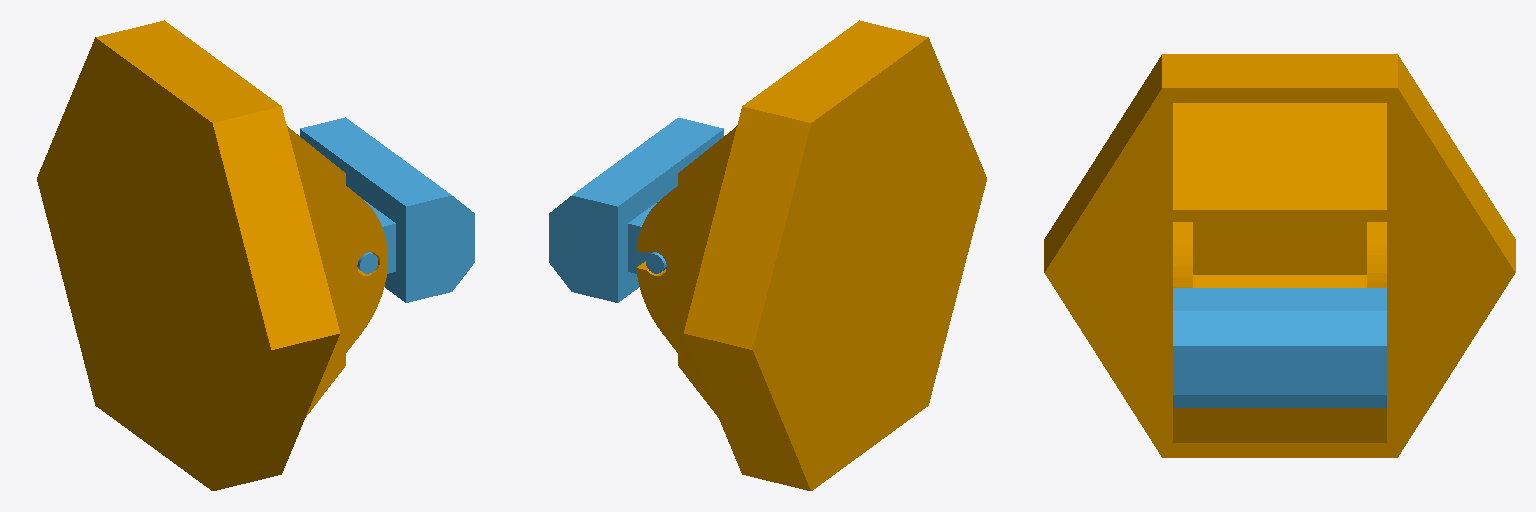
The robot description file, URDF, robot "Circuit_Breaker_Assembly":
<?xml version='1.0' encoding='utf-8'?>
<robot name="Circuit_Breaker_Assembly">
  <joint name="RevoluteJoint" type="revolute">
    <origin xyz="-0. 0. 0." rpy="0. 0. -0.0000001" />
    <parent link="World" />
    <child link="lever_pivot" />
    <axis xyz="0. 1. 0." />
    <limit lower="-0.5235988" upper="0.5235988" effort="100.0" velocity="10.0" />
  </joint>
  <link name="World">
    <inertial><origin xyz="0.000000 0.000000 0.019608" rpy="0 0 0" /><mass value="0.2636" /><inertia ixx="0.000161653" ixy="0" ixz="0" iyy="0.000204277" iyz="0" izz="0.000298367" /></inertial><visual>
      <origin xyz="-0.0350036 0. 0. " rpy="-1.5707964 0. -1.5707964" />
      <geometry>
        <mesh filename="meshes/tn__corpo1_dC_Corpo1_Mesh.obj" scale="1. 1. 1." />
      </geometry>
    </visual>
    <collision>
      <origin xyz="-0.0350036 0. 0. " rpy="-1.5707964 0. -1.5707964" />
      <geometry>
        <mesh filename="meshes/tn__corpo1_dC_Corpo1_Mesh.obj" scale="1. 1. 1." />
      </geometry>
    </collision>
  </link>
  <link name="lever_pivot">
    <inertial><origin xyz="0.020000 0.010000 -0.001500" rpy="0 0 0" /><mass value="0.0264" /><inertia ixx="3.2758e-06" ixy="0" ixz="0" iyy="5.9158e-06" iyz="0" izz="4.4e-06" /></inertial><visual>
      <origin xyz="0.0081193 0.0200116 0.0099949" rpy="-1.5707964 0. -1.5707964" />
      <geometry>
        <mesh filename="meshes/tn__Alavanca1_zH_Corpo1_Mesh.obj" scale="1. 1. 1." />
      </geometry>
    </visual>
    <collision>
      <origin xyz="0.0081193 0.0200116 0.0099949" rpy="-1.5707964 0. -1.5707964" />
      <geometry>
        <mesh filename="meshes/tn__Alavanca1_zH_Corpo1_Mesh.obj" scale="1. 1. 1." />
      </geometry>
    </collision>
  </link>
</robot>

--- What the picture shows (computed from the rendered views, not written in the file) ---
The picture shows the robot from 3 angles, left to right: view 1: azimuth 30°, elevation 25°; view 2: azimuth 150°, elevation 25°; view 3: azimuth 270°, elevation 25°; orthographic projection.
Robot: Circuit_Breaker_Assembly — 2 links, 1 joints (1 revolute); root link World; default pose: every joint at zero.
Visible links, largest first — view 1: World, lever_pivot; view 2: World, lever_pivot; view 3: World, lever_pivot.
Boxes of the visible links, x1,y1,x2,y2 form: World: (37, 20, 387, 490); lever_pivot: (300, 117, 474, 302); World: (636, 20, 986, 490); lever_pivot: (549, 118, 723, 302); World: (1044, 54, 1515, 457); lever_pivot: (1173, 288, 1386, 407).
Size in the robot's own frame: 0.0581 by 0.0881 by 0.0763 metres.
Meshes: 2 distinct files referenced, 2 mesh visuals loaded (2 OBJ).
